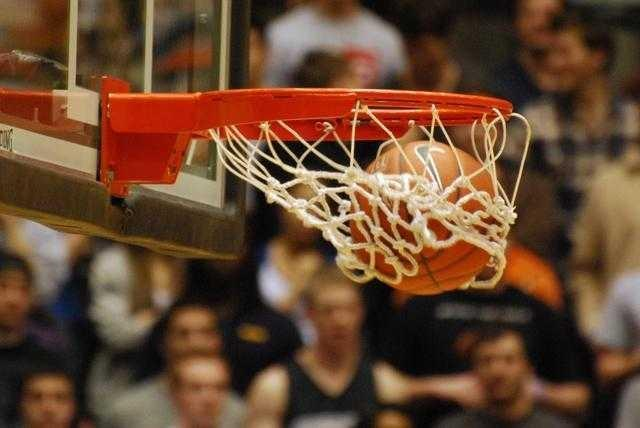ball: (348, 135, 504, 300)
rim: (196, 88, 542, 294)
